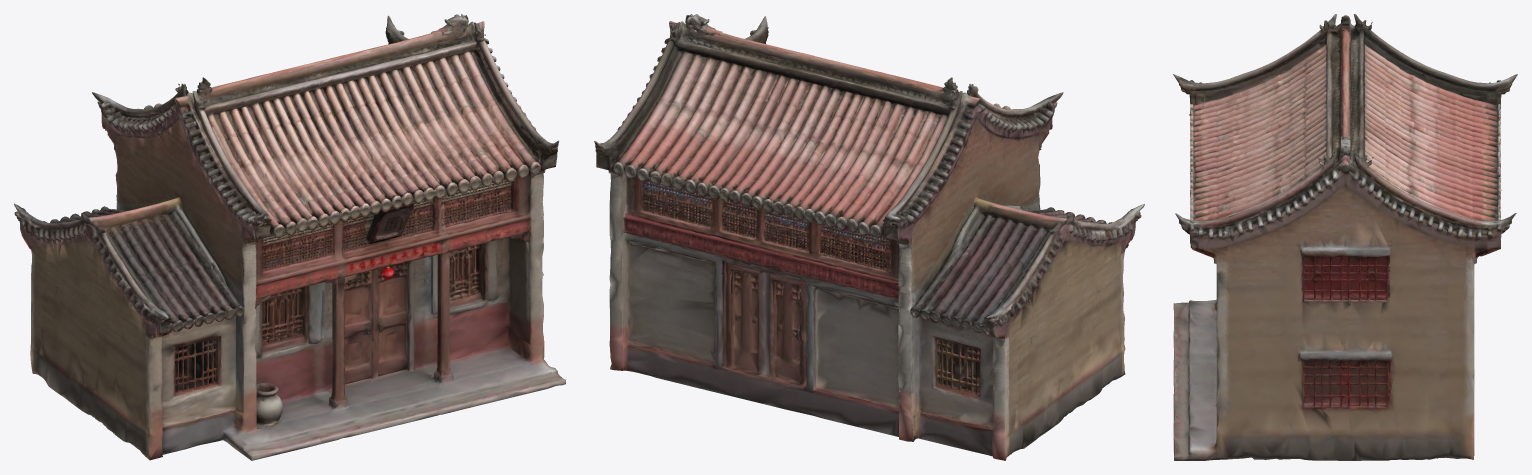
File: bq_inn.hd.glb
3 renders of one model, left to right at view 1: azimuth 30°, elevation 25°; view 2: azimuth 150°, elevation 25°; view 3: azimuth 270°, elevation 25°, orthographic.
Size of the model in its own units: 1.91 by 1.43 by 1.43.
Materials: 1 (1 with a texture image).
